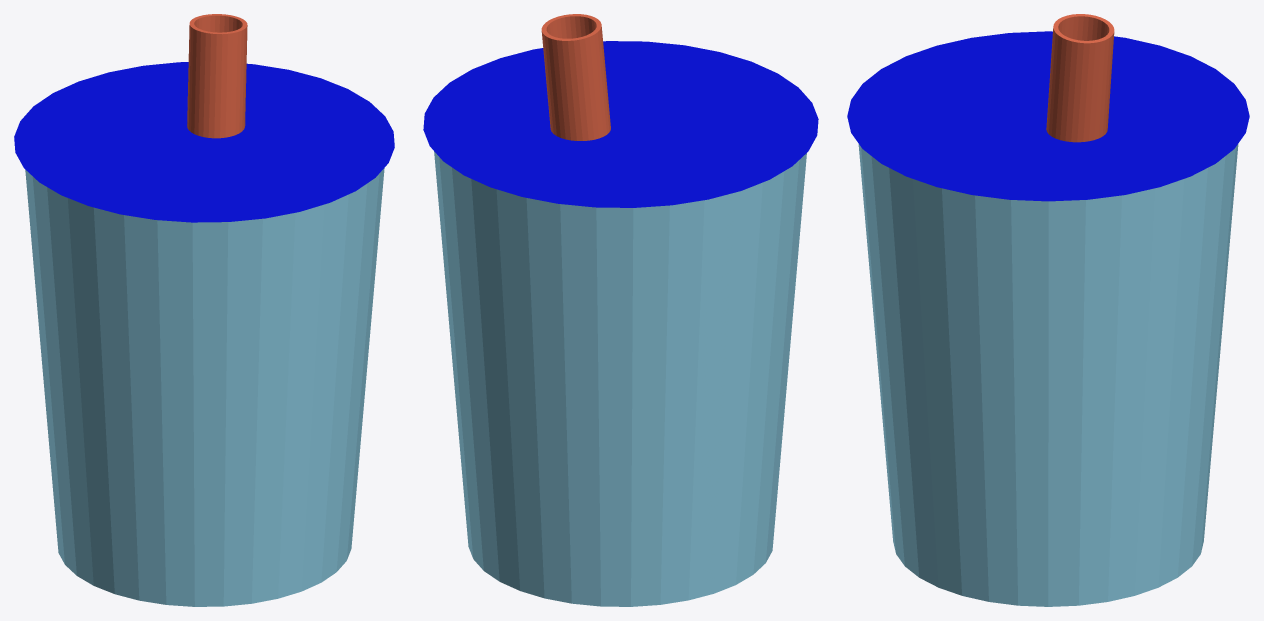
The model's file is DirtyBobaCup.fbx.
3 renders of one model, left to right at view 1: azimuth 30°, elevation 25°; view 2: azimuth 150°, elevation 25°; view 3: azimuth 270°, elevation 25°, orthographic. The views are drawn at different scales.
Parts seen in each view (by area): view 1: Cup, Lid, Straw; view 2: Cup, Lid, Straw; view 3: Cup, Lid, Straw.
Part boxes in pixels (<box>): Cup: <box>25,168,384,606</box>; Lid: <box>14,62,394,222</box>; Straw: <box>187,14,247,138</box>; Cup: <box>434,151,806,606</box>; Lid: <box>423,41,818,207</box>; Straw: <box>541,14,610,140</box>; Cup: <box>858,144,1238,606</box>; Lid: <box>847,31,1249,201</box>; Straw: <box>1046,14,1114,142</box>.
Size of the model in its own units: 259 by 377 by 259.
